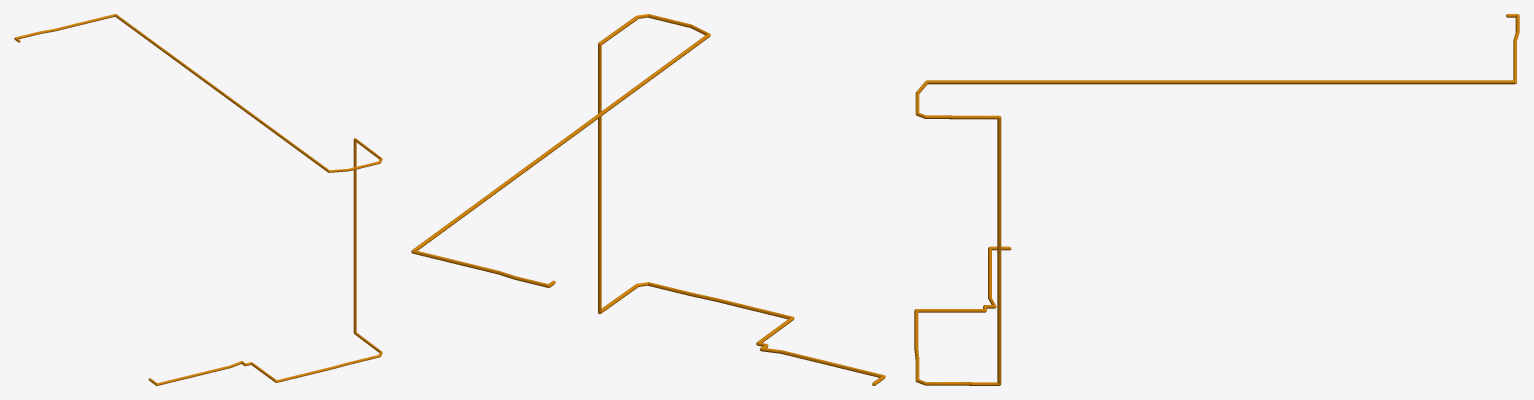
3 views of the same model, side by side, from view 1: azimuth 30°, elevation 25°; view 2: azimuth 150°, elevation 25°; view 3: azimuth 270°, elevation 25° (orthographic). The views are drawn at different scales.
Size of the model in its own units: 1655 by 1520 by 3087.
